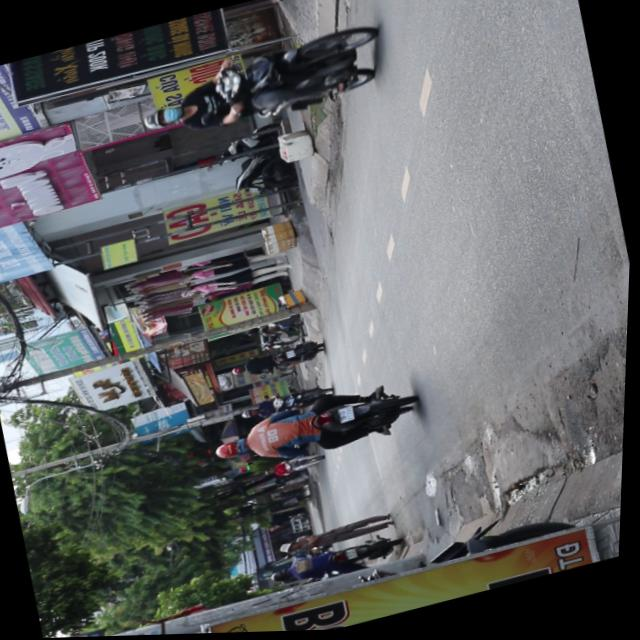helmet: (142, 102, 187, 132), (214, 436, 251, 462)
licenseplate: (131, 19, 390, 151), (209, 375, 425, 482)
nohelmet: (337, 406, 354, 425)
